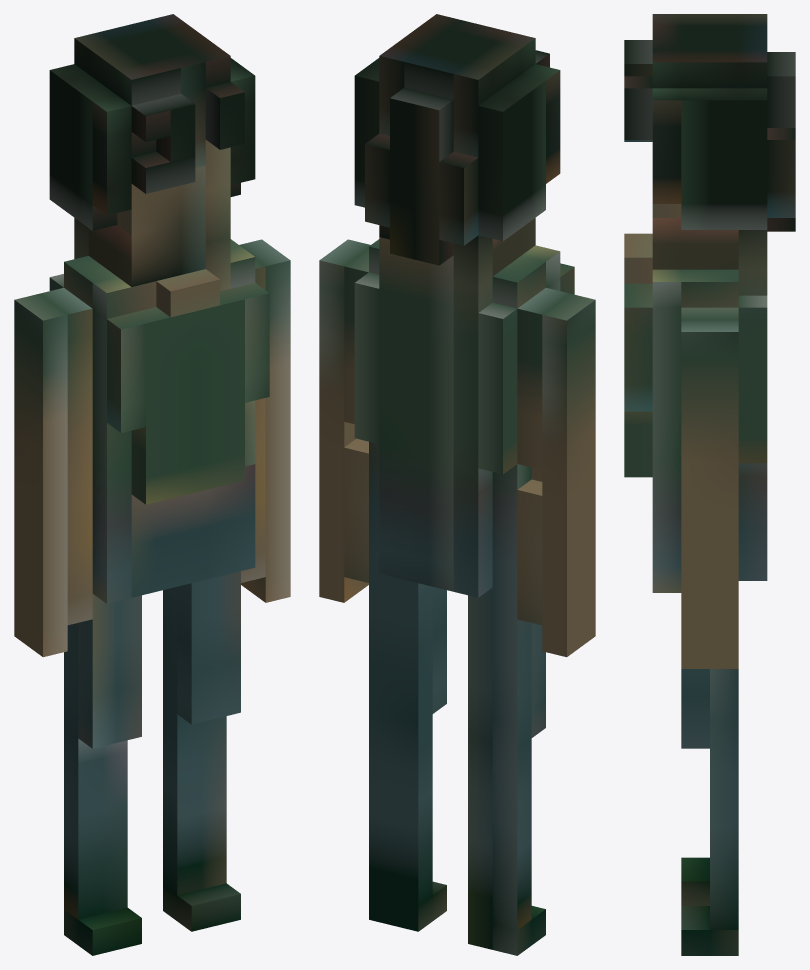
File: Character_Guy_00.obj
3 renders of one model, left to right at view 1: azimuth 30°, elevation 25°; view 2: azimuth 150°, elevation 25°; view 3: azimuth 270°, elevation 25°, orthographic.
Visible parts, largest first — view 1: Character_Guy_00; view 2: Character_Guy_00; view 3: Character_Guy_00.
Part boxes in pixels (x1,y1,x2,y2): Character_Guy_00: (14, 14, 290, 955); Character_Guy_00: (319, 14, 595, 955); Character_Guy_00: (624, 14, 795, 955).
Bounding box in the file's own units: 0.5 × 1.7 × 0.3.
